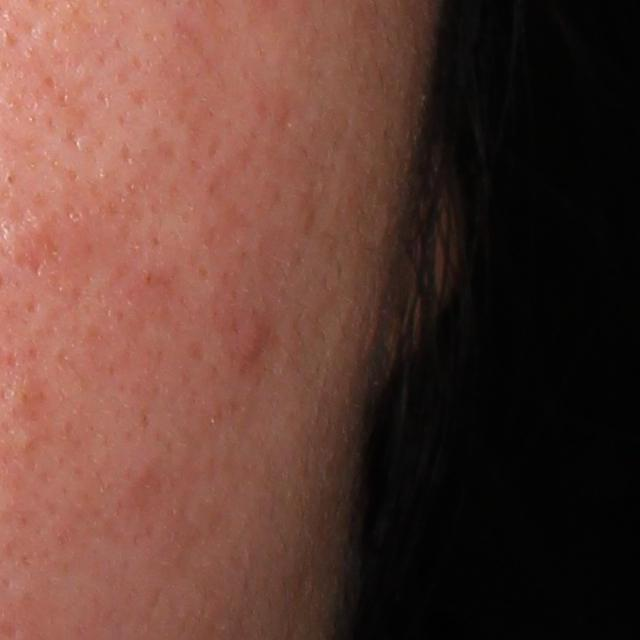atrophic_scar: (13, 214, 68, 279)
